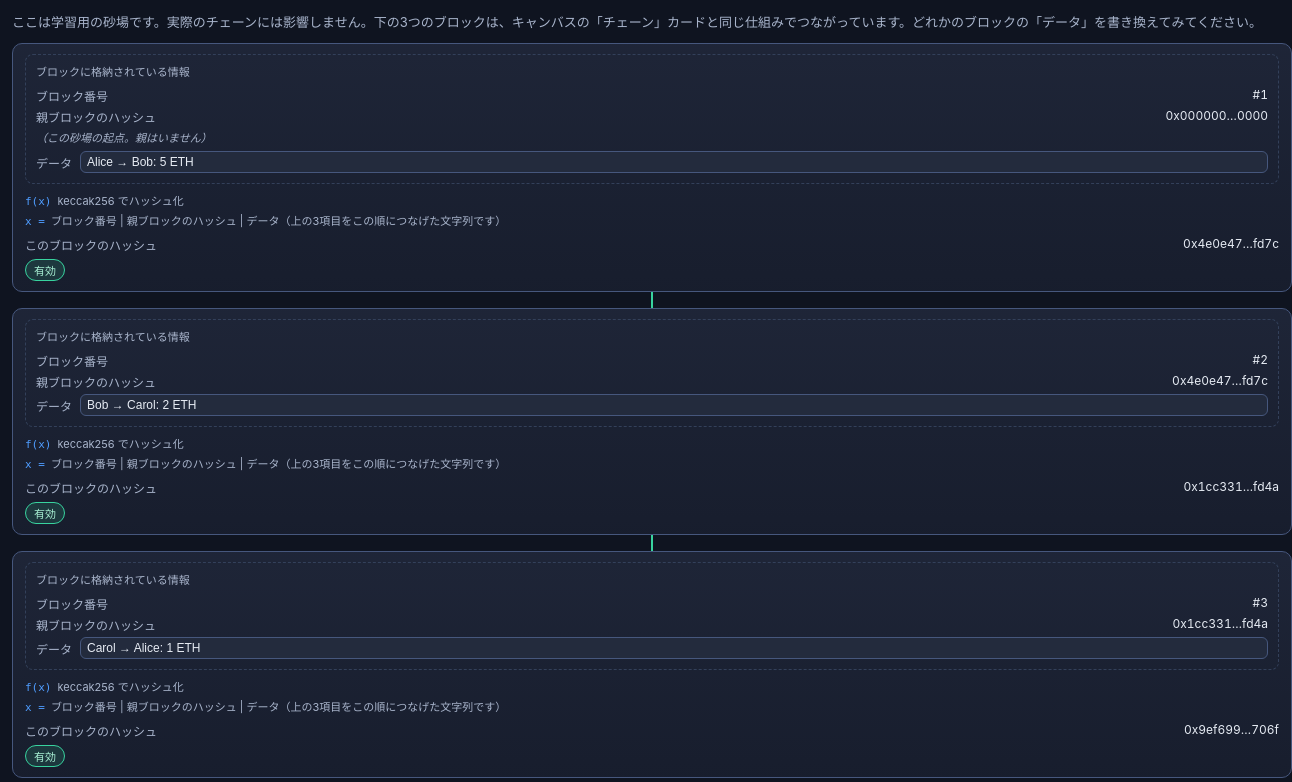
HashChainDemoView: editing breaks the chain, one relink at a time repairs it › editing block #1's data invalidates only block #2 (block #3 stays valid)
Replace the text in the field with test id "hash-chain-demo-data-1" with "Alice -> Bob: 999 ETH" at (674, 162), box x1=80 y1=151 x2=1268 y2=173
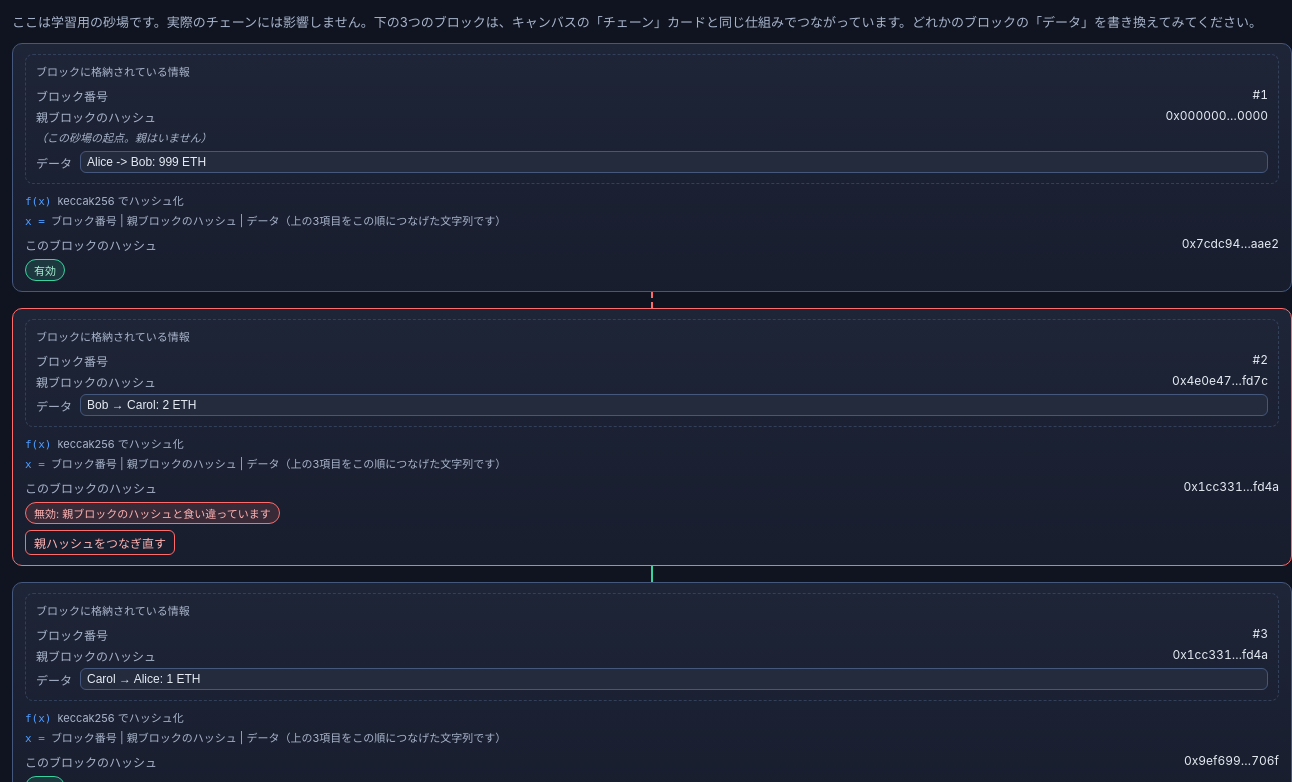
Expected: the button with test id "hash-chain-demo-relink-2" is shown, x1=25 y1=530 x2=175 y2=555
